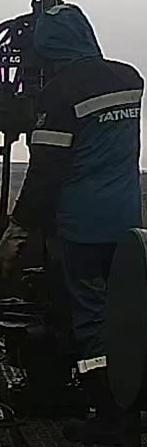gloves: (0, 208, 30, 271)
vest: (32, 57, 147, 251)
